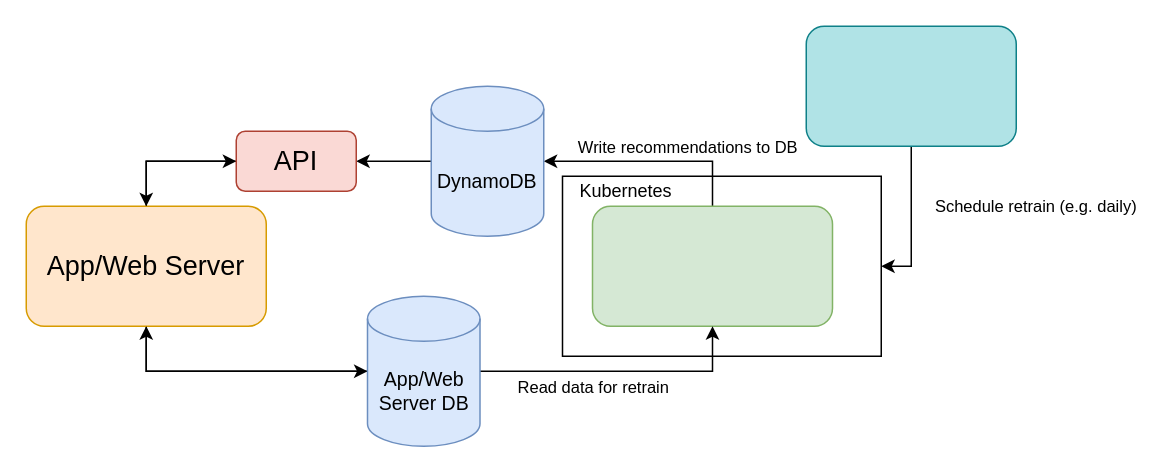
The diagram is 1163 pixels wide and 473 high, and some of its shapes have lost their labels. The centre of each missing label's shape, as x and y in pixels:
"Model (current prototype in .ipynb)" belongs at (711,265).
"Scheduler (Cronjob/Airflow)" belongs at (910,85).
